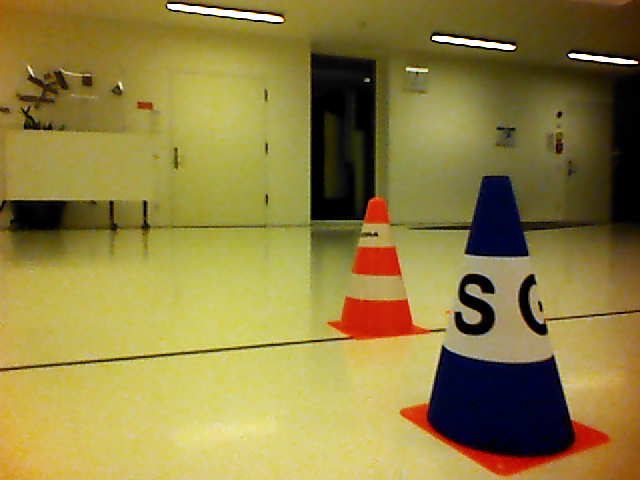bluecone: (427, 175, 580, 460)
orangeconesmall: (338, 197, 416, 333)
